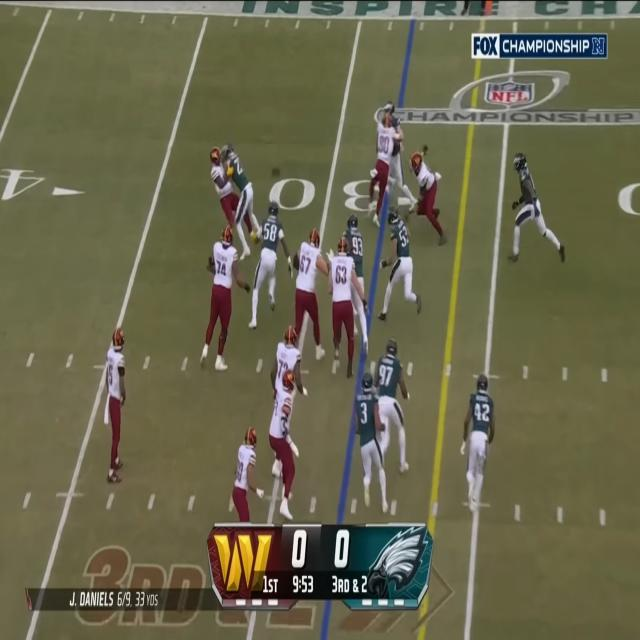Ball: (270, 165, 282, 179)
